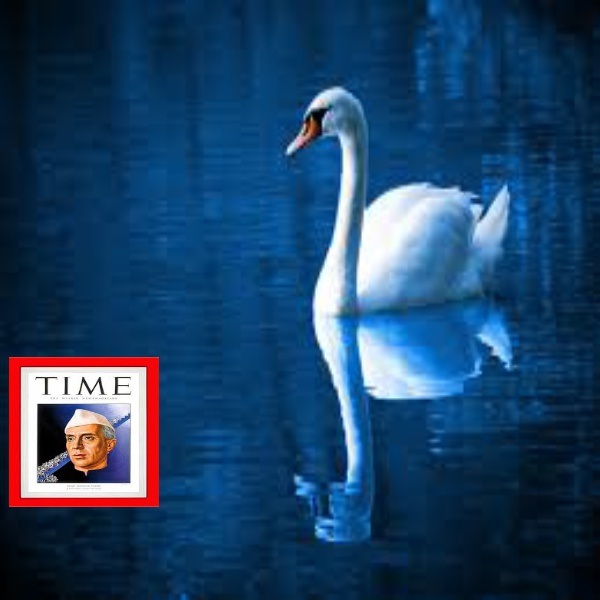time_cover: (10, 345, 163, 516)
